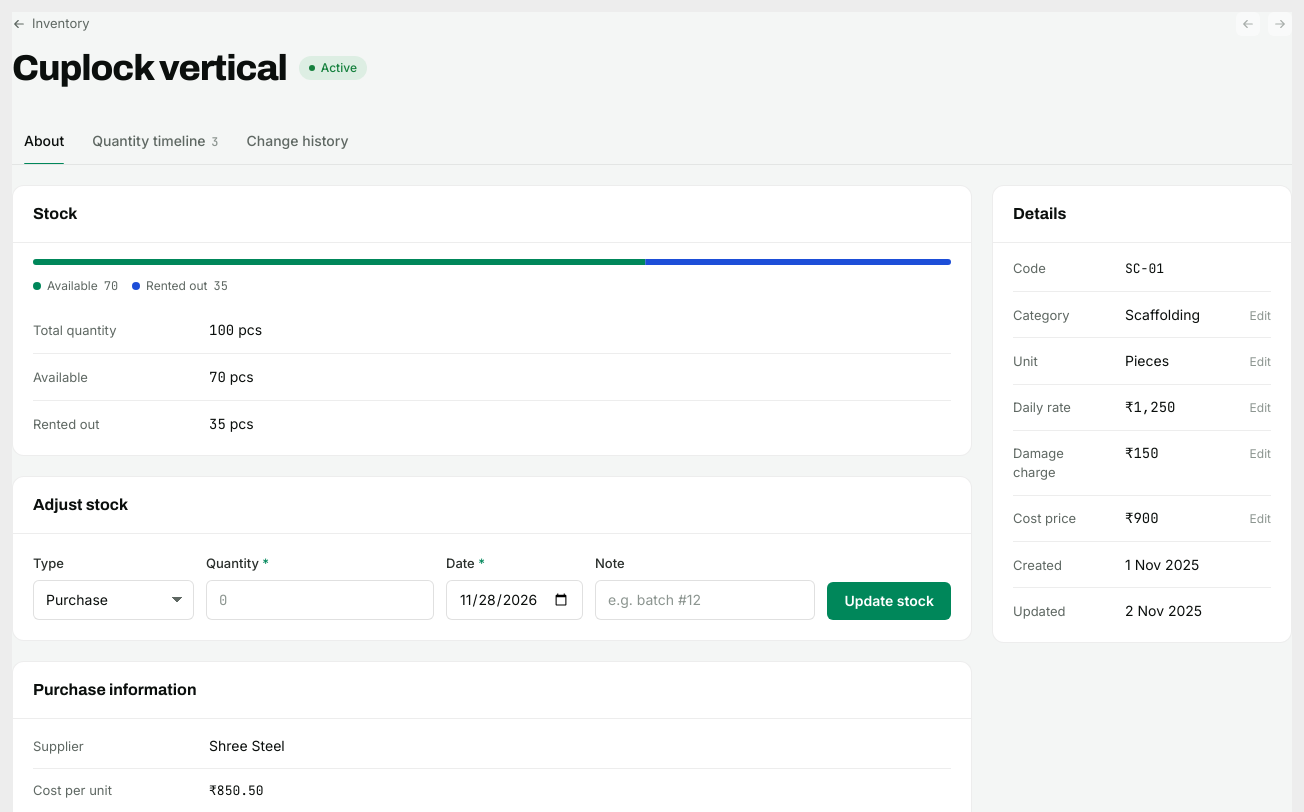
it: InventoryDetailPage › validates quantity and date before sending
Submit the form named "Adjust stock", box [33,554,951,620]
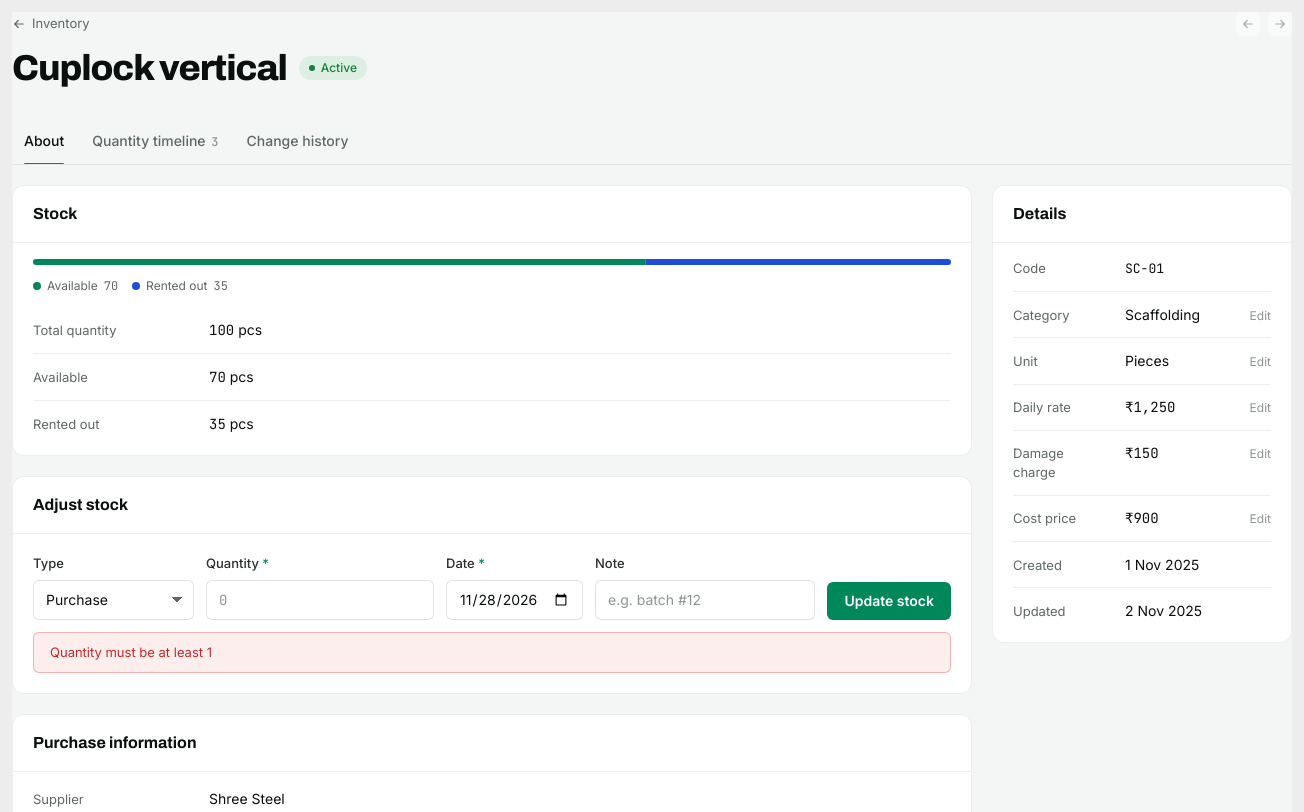
Result: the text "Quantity must be at least 1" is shown at [50,644,212,660]
Type "3" into the number field labelled "Quantity *" at (320, 600), box [206,580,434,620]
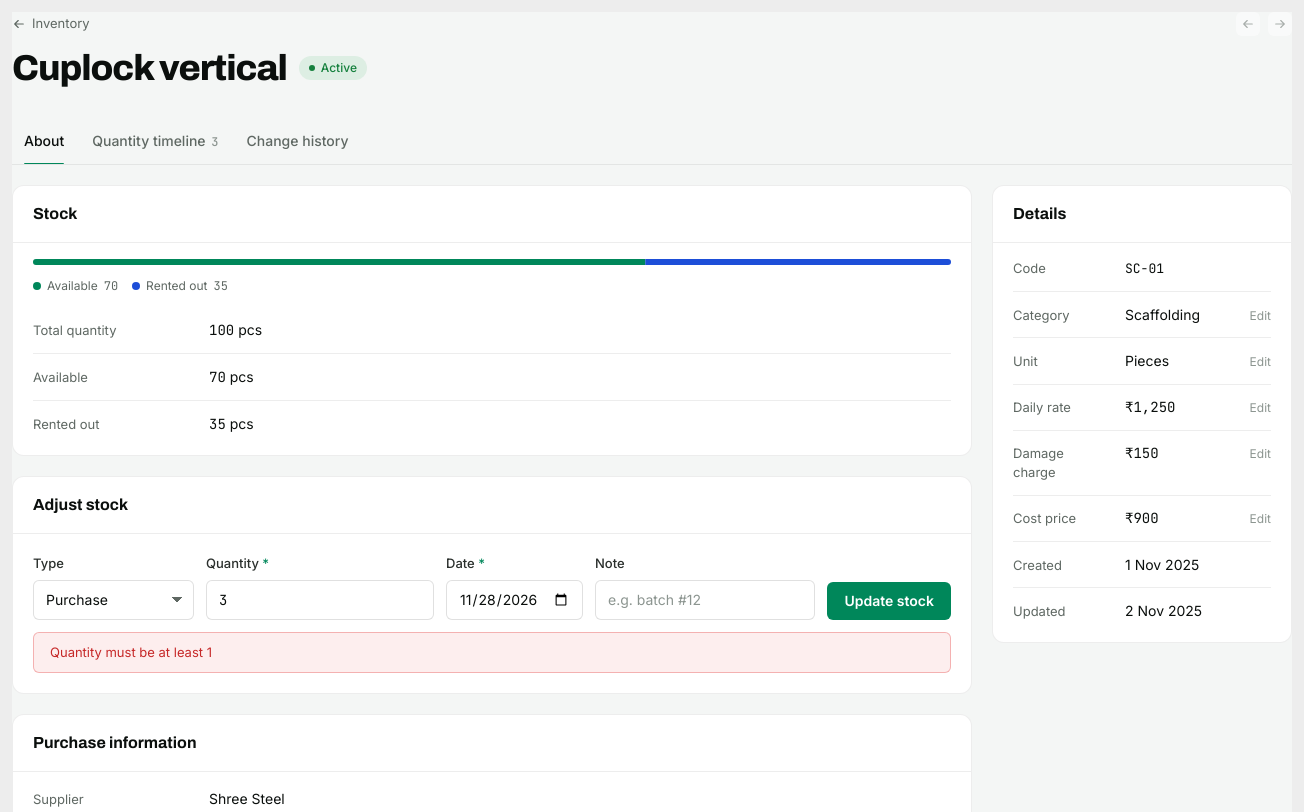
Clear the date field labelled "Date *" at (514, 600), box [446,580,583,620]
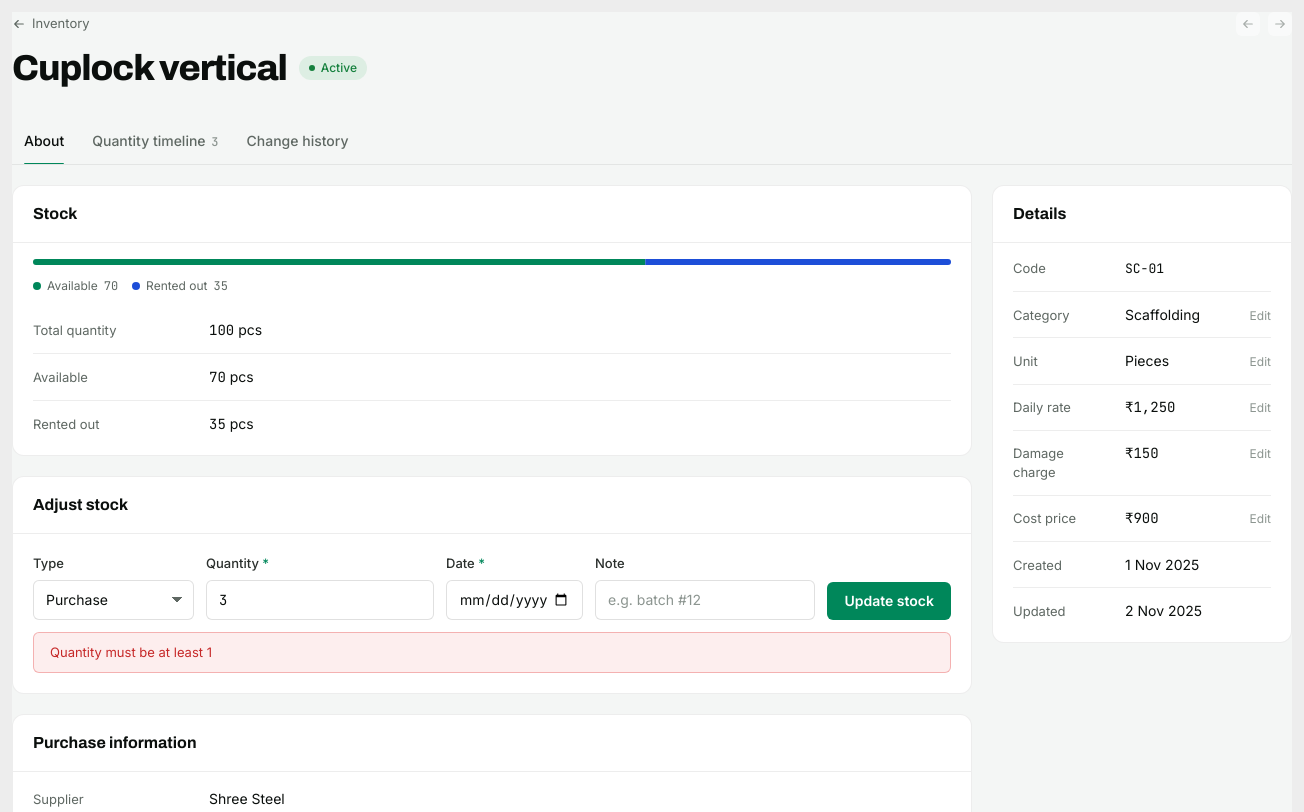
Submit the form, box [33,554,951,620]
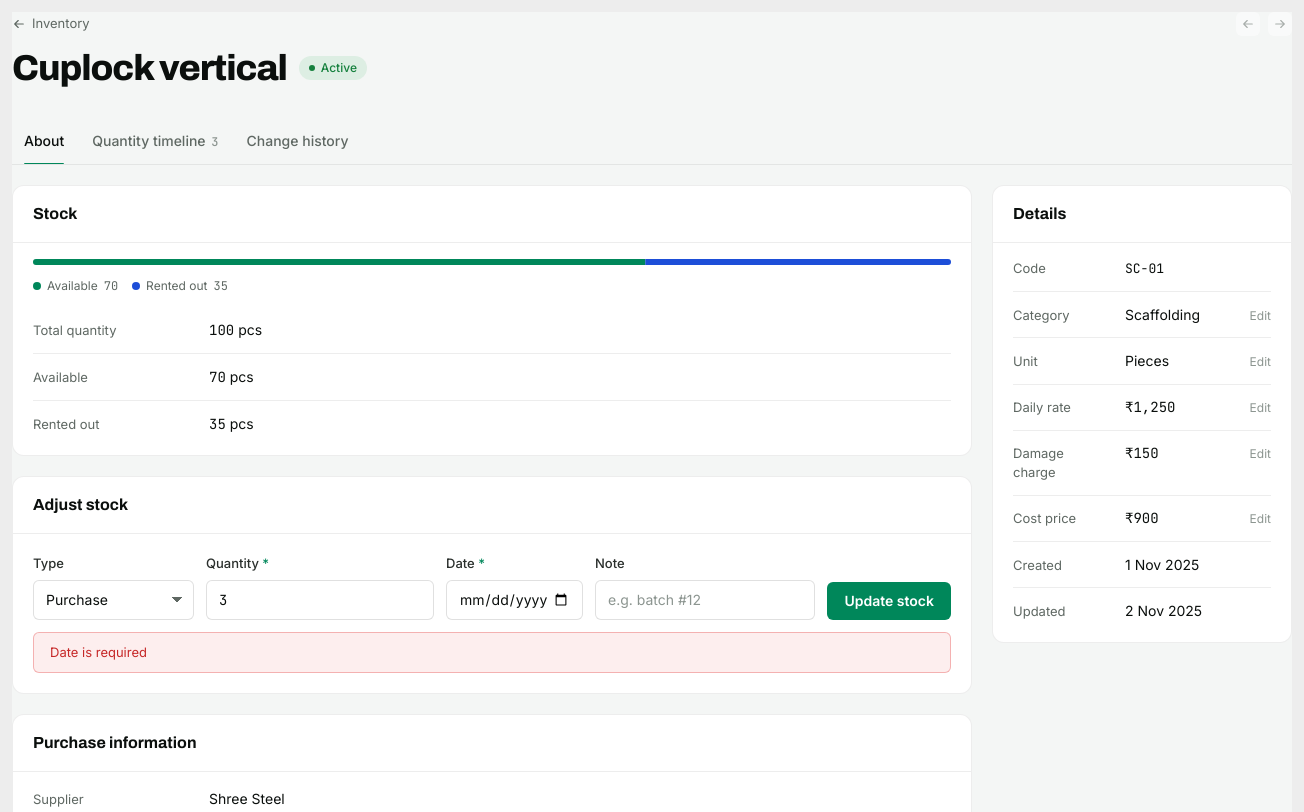
Result: the text "Date is required" is shown at [50,644,147,660]
